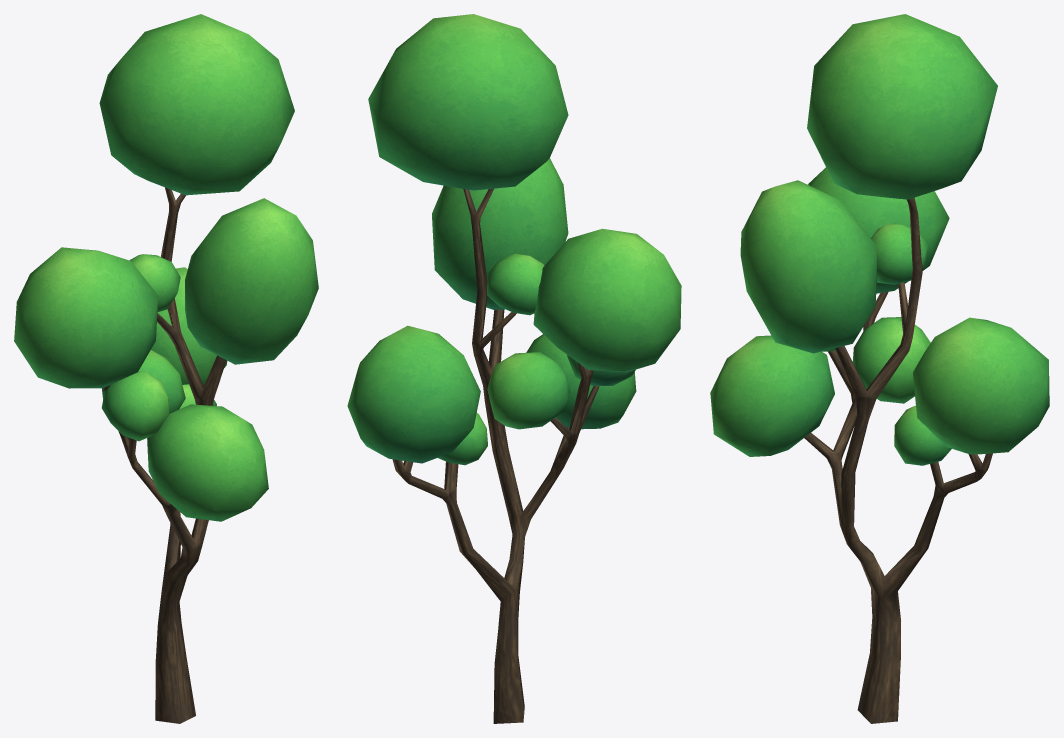
The model's file is Tree_Oak_8.fbx.
3 views of the same model, side by side, from view 1: azimuth 30°, elevation 25°; view 2: azimuth 150°, elevation 25°; view 3: azimuth 270°, elevation 25° (orthographic). The views are drawn at different scales.
Parts seen in each view (by area): view 1: Icosphere.035, Icosphere.054, Icosphere.036, Icosphere.051, Cube.086, Icosphere.052, Icosphere.037, Icosphere.038, Icosphere.053; view 2: Icosphere.035, Icosphere.036, Cube.086, Icosphere.037, Icosphere.054, Icosphere.053, Icosphere.051, Icosphere.038, Icosphere.039, Icosphere.052; view 3: Icosphere.035, Icosphere.054, Cube.086, Icosphere.037, Icosphere.051, Icosphere.036, Icosphere.053, Icosphere.038, Icosphere.039.
Boxes of the visible parts, <box> form: Icosphere.035: <box>99,14,294,195</box>; Icosphere.054: <box>185,198,318,364</box>; Icosphere.036: <box>14,247,158,388</box>; Icosphere.051: <box>147,404,268,521</box>; Cube.086: <box>103,187,226,723</box>; Icosphere.052: <box>101,371,169,441</box>; Icosphere.037: <box>151,267,227,385</box>; Icosphere.038: <box>129,254,180,312</box>; Icosphere.053: <box>102,350,185,413</box>; Icosphere.035: <box>368,14,568,190</box>; Icosphere.036: <box>533,228,681,372</box>; Cube.086: <box>392,188,599,723</box>; Icosphere.037: <box>347,325,480,463</box>; Icosphere.054: <box>432,158,568,309</box>; Icosphere.053: <box>487,352,570,429</box>; Icosphere.051: <box>526,334,636,429</box>; Icosphere.038: <box>486,253,544,315</box>; Icosphere.039: <box>438,413,487,465</box>; Icosphere.052: <box>567,355,635,385</box>; Icosphere.035: <box>807,14,997,199</box>; Icosphere.054: <box>740,180,876,353</box>; Cube.086: <box>804,197,992,723</box>; Icosphere.037: <box>913,317,1049,454</box>; Icosphere.051: <box>710,335,834,456</box>; Icosphere.036: <box>808,167,949,293</box>; Icosphere.053: <box>852,317,930,403</box>; Icosphere.038: <box>871,223,928,284</box>; Icosphere.039: <box>894,405,951,465</box>.
Bounding box in the file's own units: 386 × 927 × 402.
2 materials, 2 textured.
